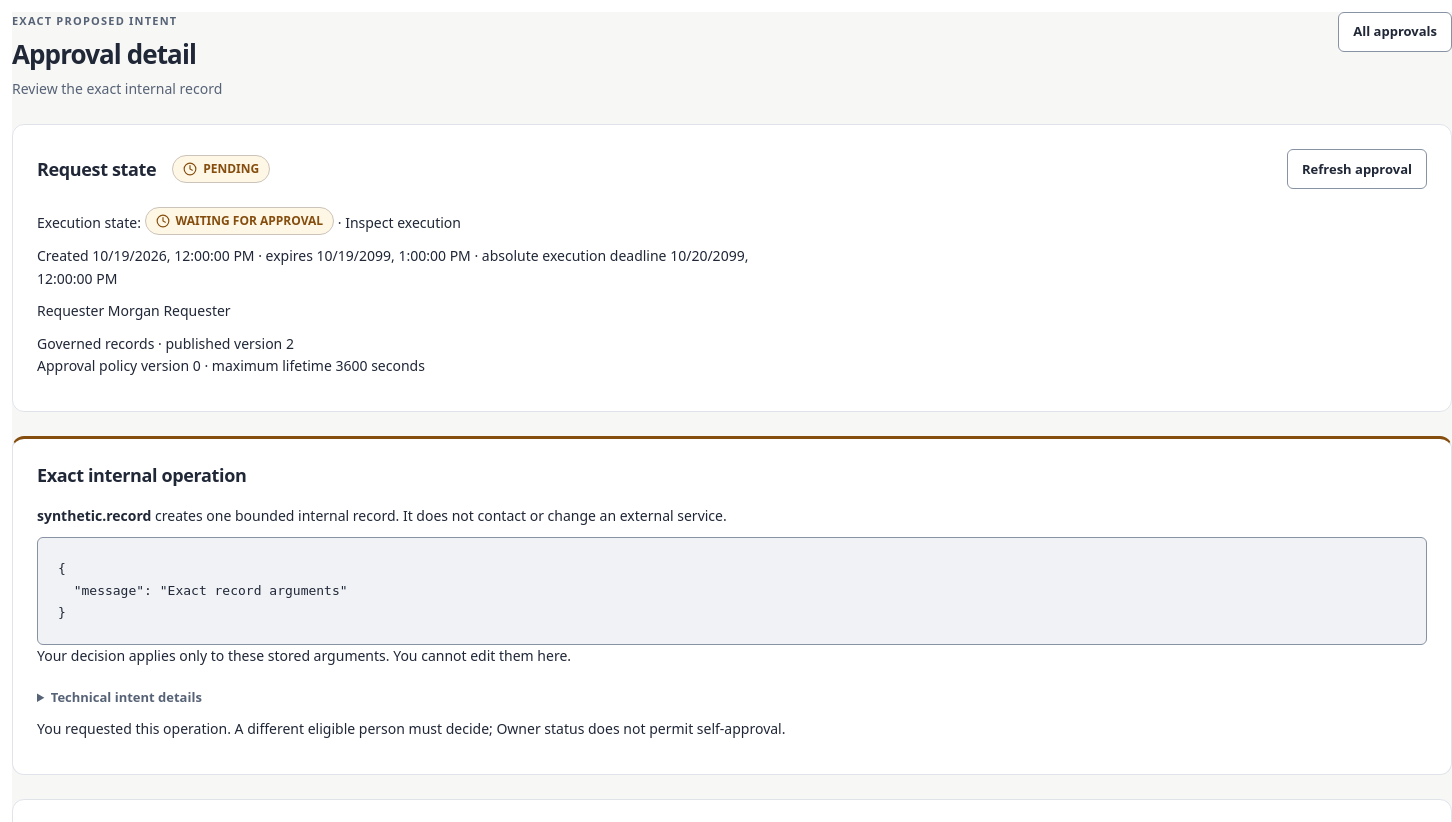
Test case: shows exact immutable intent and hides decision controls from the requester
expect the text "A different eligible person must decide" is shown: met, box x1=37 y1=719 x2=786 y2=738
expect the text named "Exact proposed arguments" shows "Exact record arguments": met, box x1=58 y1=561 x2=348 y2=620
Click the heading "Technical intent details": click(126, 697) x1=51 y1=688 x2=202 y2=706
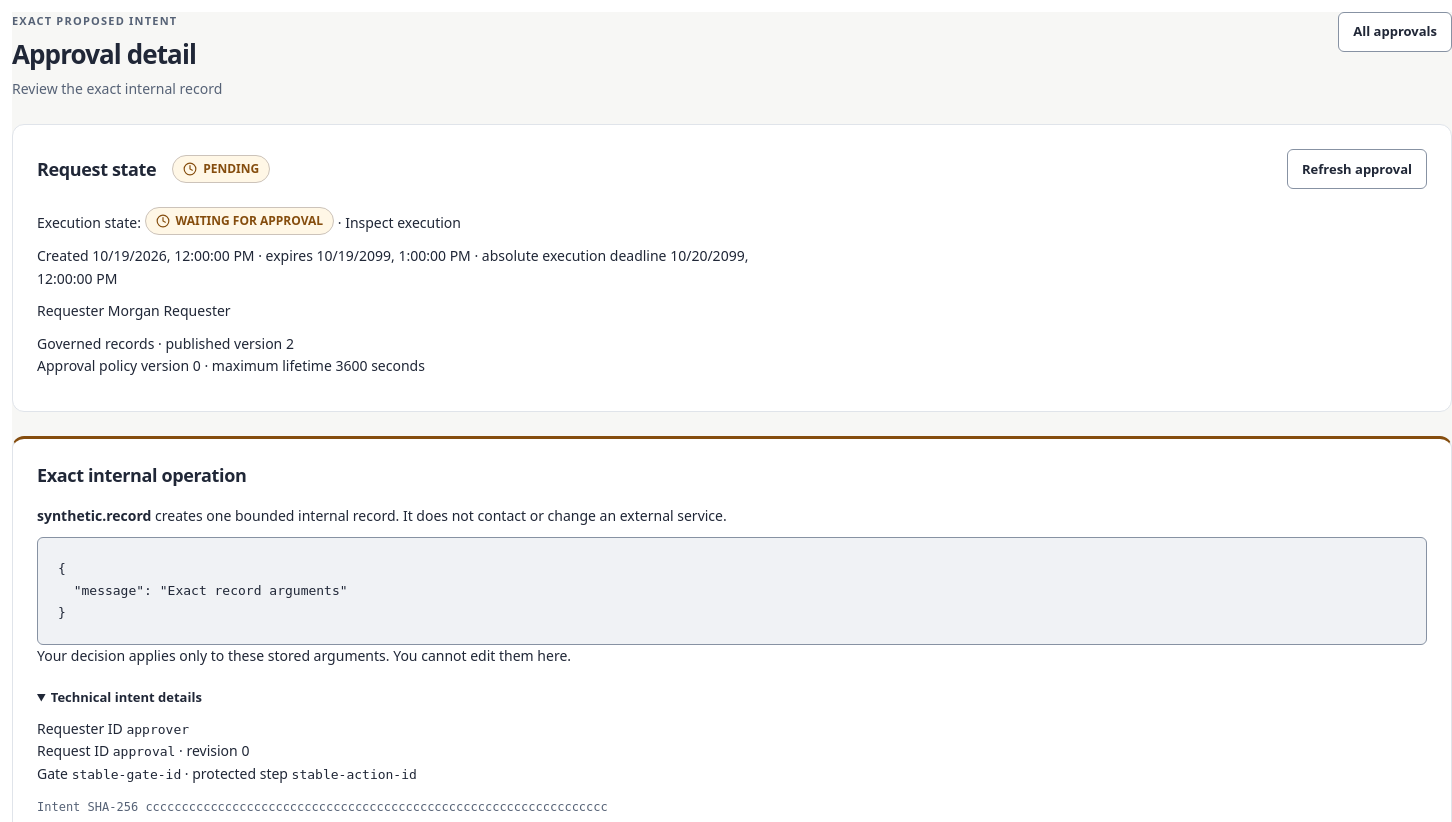
expect the text "stable-action-id" is shown: met, box x1=292 y1=767 x2=417 y2=782
